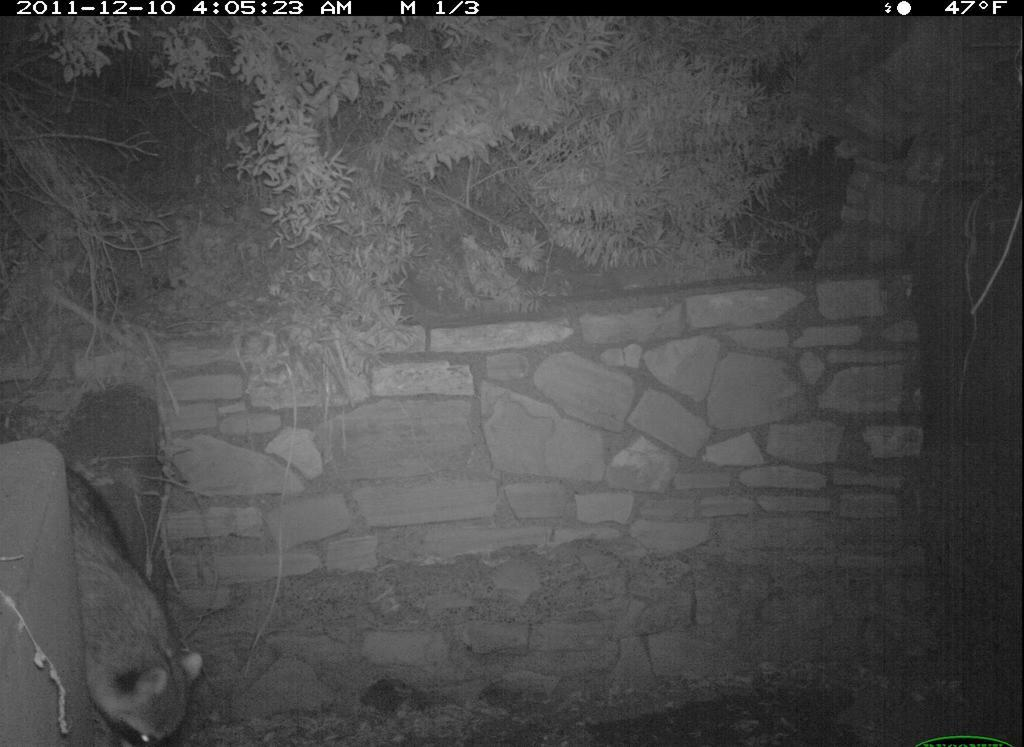raccoon: (38, 433, 226, 742)
